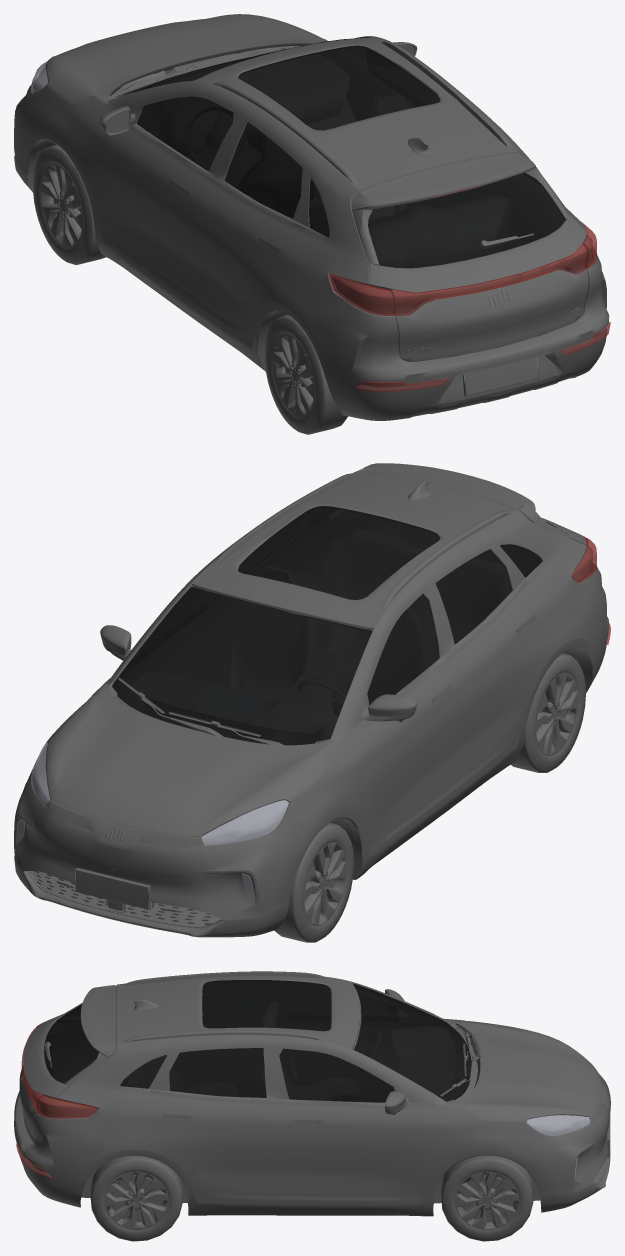
The model's file is WM_3dmax.FBX.
3 renders of one model, top to bottom at view 1: azimuth 30°, elevation 25°; view 2: azimuth 150°, elevation 25°; view 3: azimuth 270°, elevation 25°, orthographic. The views are drawn at different scales.
Visible parts, largest first — view 1: polySurface406, BL, L4, L3, polySurface407, L, hd; view 2: polySurface406, BL, L4, L, L3, BL1, polySurface407; view 3: polySurface406, BL, L1, L2, L4, polySurface407, BL1, hd.
Boxes of the visible parts, x1=… form: polySurface406: x1=14, y1=14, x2=609, y2=420; BL: x1=122, y1=38, x2=566, y2=268; L4: x1=238, y1=45, x2=439, y2=130; L3: x1=264, y1=314, x2=347, y2=434; polySurface407: x1=329, y1=221, x2=610, y2=391; L: x1=33, y1=144, x2=105, y2=265; hd: x1=333, y1=234, x2=592, y2=314; polySurface406: x1=14, y1=463, x2=609, y2=937; BL: x1=112, y1=522, x2=556, y2=745; L4: x1=238, y1=506, x2=439, y2=600; L: x1=274, y1=822, x2=354, y2=942; L3: x1=511, y1=653, x2=585, y2=772; BL1: x1=16, y1=742, x2=288, y2=901; polySurface407: x1=571, y1=534, x2=610, y2=644; polySurface406: x1=14, y1=971, x2=610, y2=1216; BL: x1=44, y1=983, x2=471, y2=1102; L1: x1=441, y1=1155, x2=533, y2=1241; L2: x1=90, y1=1155, x2=182, y2=1241; L4: x1=202, y1=980, x2=331, y2=1031; polySurface407: x1=16, y1=1021, x2=97, y2=1178; BL1: x1=526, y1=1051, x2=590, y2=1179; hd: x1=25, y1=1076, x2=96, y2=1117.
Size of the model in its own units: 21.03 by 16.44 by 45.75.
